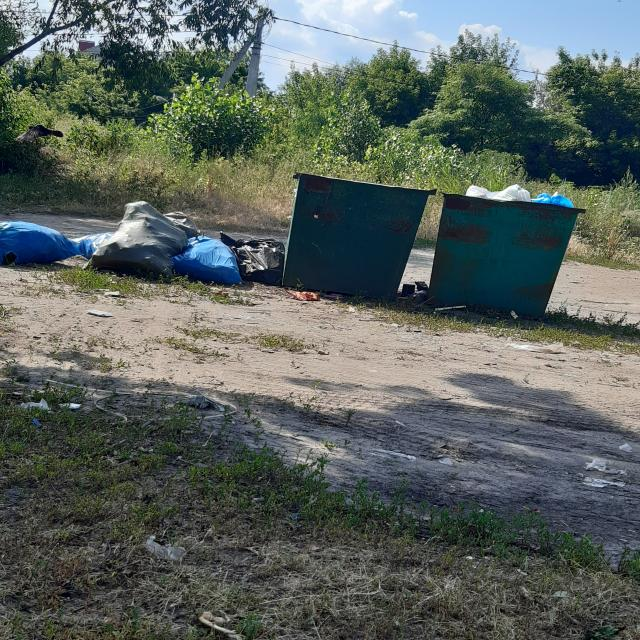bin: (263, 151, 419, 307), (430, 192, 592, 318)
plastic: (0, 179, 238, 296), (467, 183, 574, 204)
